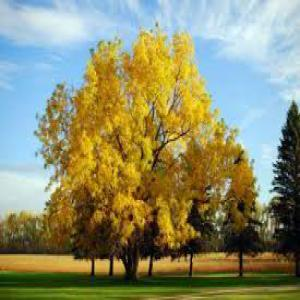Tree: (31, 23, 258, 275)
